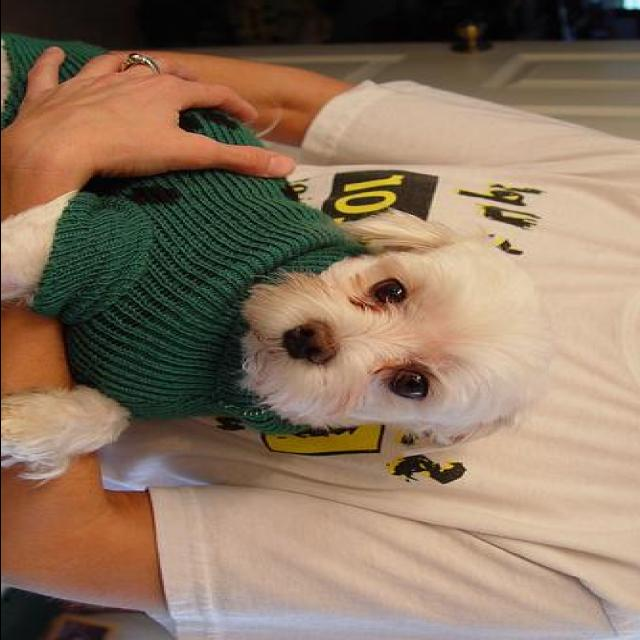maltese_dog: (2, 34, 540, 478)
